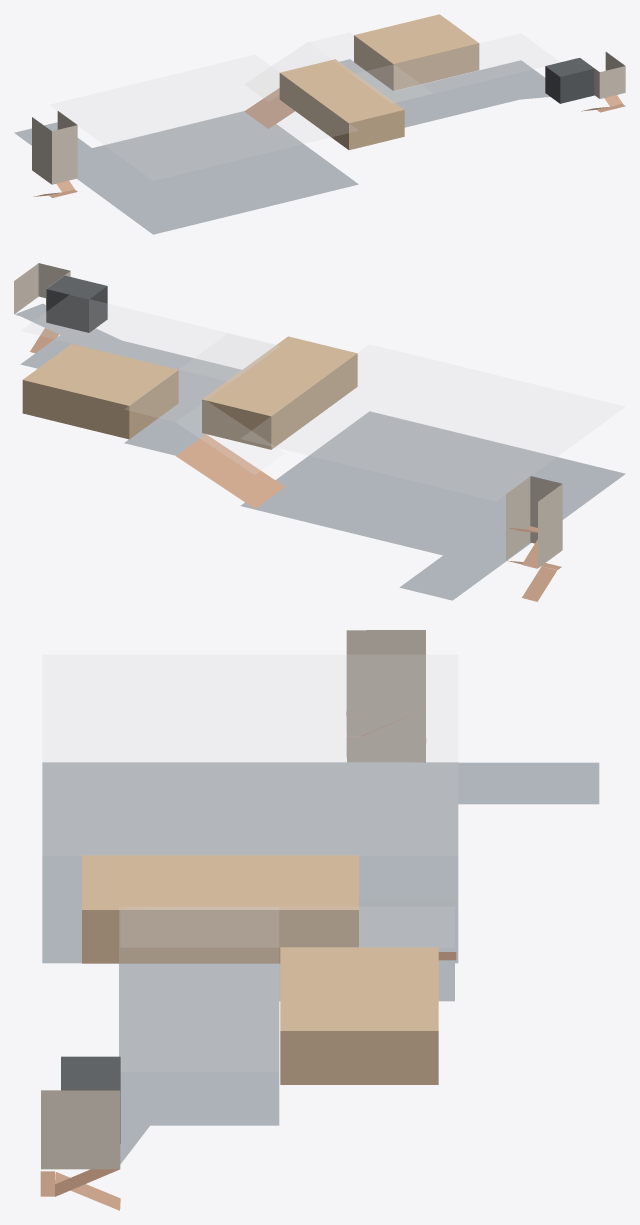
3 views of the same model, one above another, from view 1: azimuth 30°, elevation 25°; view 2: azimuth 150°, elevation 25°; view 3: azimuth 270°, elevation 25° (orthographic). The views are drawn at different scales.
Visible parts, largest first — view 1: Cube.012, Cube.020, Cube.022, 立方體.172, 立方體.174, Cube.017, 立方體.163, Cube, 立方體.170, 立方體.183, 立方體.180, 立方體.164 (+4 smaller); view 2: Cube.012, Cube.020, Cube.022, 立方體.172, Cube, 立方體.163, 立方體.174, Cube.017, 立方體.173, 立方體.183, 立方體.170, 立方體.171 (+6 smaller); view 3: Cube.012, Cube.020, 立方體.172, 立方體.174, Cube.022, Cube, 立方體.163, Cube.017, 立方體.177, 立方體.180, Cube.021, 立方體.164 (+2 smaller).
Boxes of the visible parts, left/top/right/bottom form: Cube.012: left=51, top=55, right=357, bottom=180; Cube.020: left=77, top=111, right=358, bottom=234; Cube.022: left=354, top=14, right=479, bottom=90; 立方體.172: left=353, top=34, right=559, bottom=103; 立方體.174: left=383, top=60, right=545, bottom=127; Cube.017: left=319, top=88, right=404, bottom=150; 立方體.163: left=309, top=33, right=431, bottom=102; Cube: left=279, top=59, right=374, bottom=128; 立方體.170: left=545, top=58, right=594, bottom=103; 立方體.183: left=245, top=42, right=330, bottom=101; 立方體.180: left=32, top=111, right=77, bottom=157; 立方體.164: left=32, top=143, right=77, bottom=184; Cube.012: left=241, top=345, right=624, bottom=500; Cube.020: left=240, top=411, right=625, bottom=568; Cube.022: left=22, top=344, right=178, bottom=439; 立方體.172: left=21, top=295, right=279, bottom=381; Cube: left=202, top=363, right=320, bottom=449; 立方體.163: left=125, top=334, right=278, bottom=421; 立方體.174: left=20, top=328, right=241, bottom=408; Cube.017: left=252, top=336, right=357, bottom=413; 立方體.173: left=176, top=434, right=284, bottom=508; 立方體.183: left=176, top=401, right=283, bottom=474; 立方體.170: left=46, top=275, right=107, bottom=332; 立方體.171: left=124, top=403, right=205, bottom=455; Cube.012: left=43, top=655, right=457, bottom=854; Cube.020: left=42, top=762, right=458, bottom=963; 立方體.172: left=119, top=907, right=278, bottom=1070; 立方體.174: left=119, top=963, right=279, bottom=1125; Cube.022: left=280, top=947, right=438, bottom=1084; Cube: left=200, top=855, right=358, bottom=963; 立方體.163: left=121, top=907, right=454, bottom=946; Cube.017: left=82, top=855, right=200, bottom=963; 立方體.177: left=41, top=1090, right=120, bottom=1169; 立方體.180: left=346, top=630, right=425, bottom=709; Cube.021: left=451, top=762, right=599, bottom=804; 立方體.164: left=346, top=704, right=425, bottom=762.
Size of the model in its own units: 58.07 by 8.98 by 28.19.
